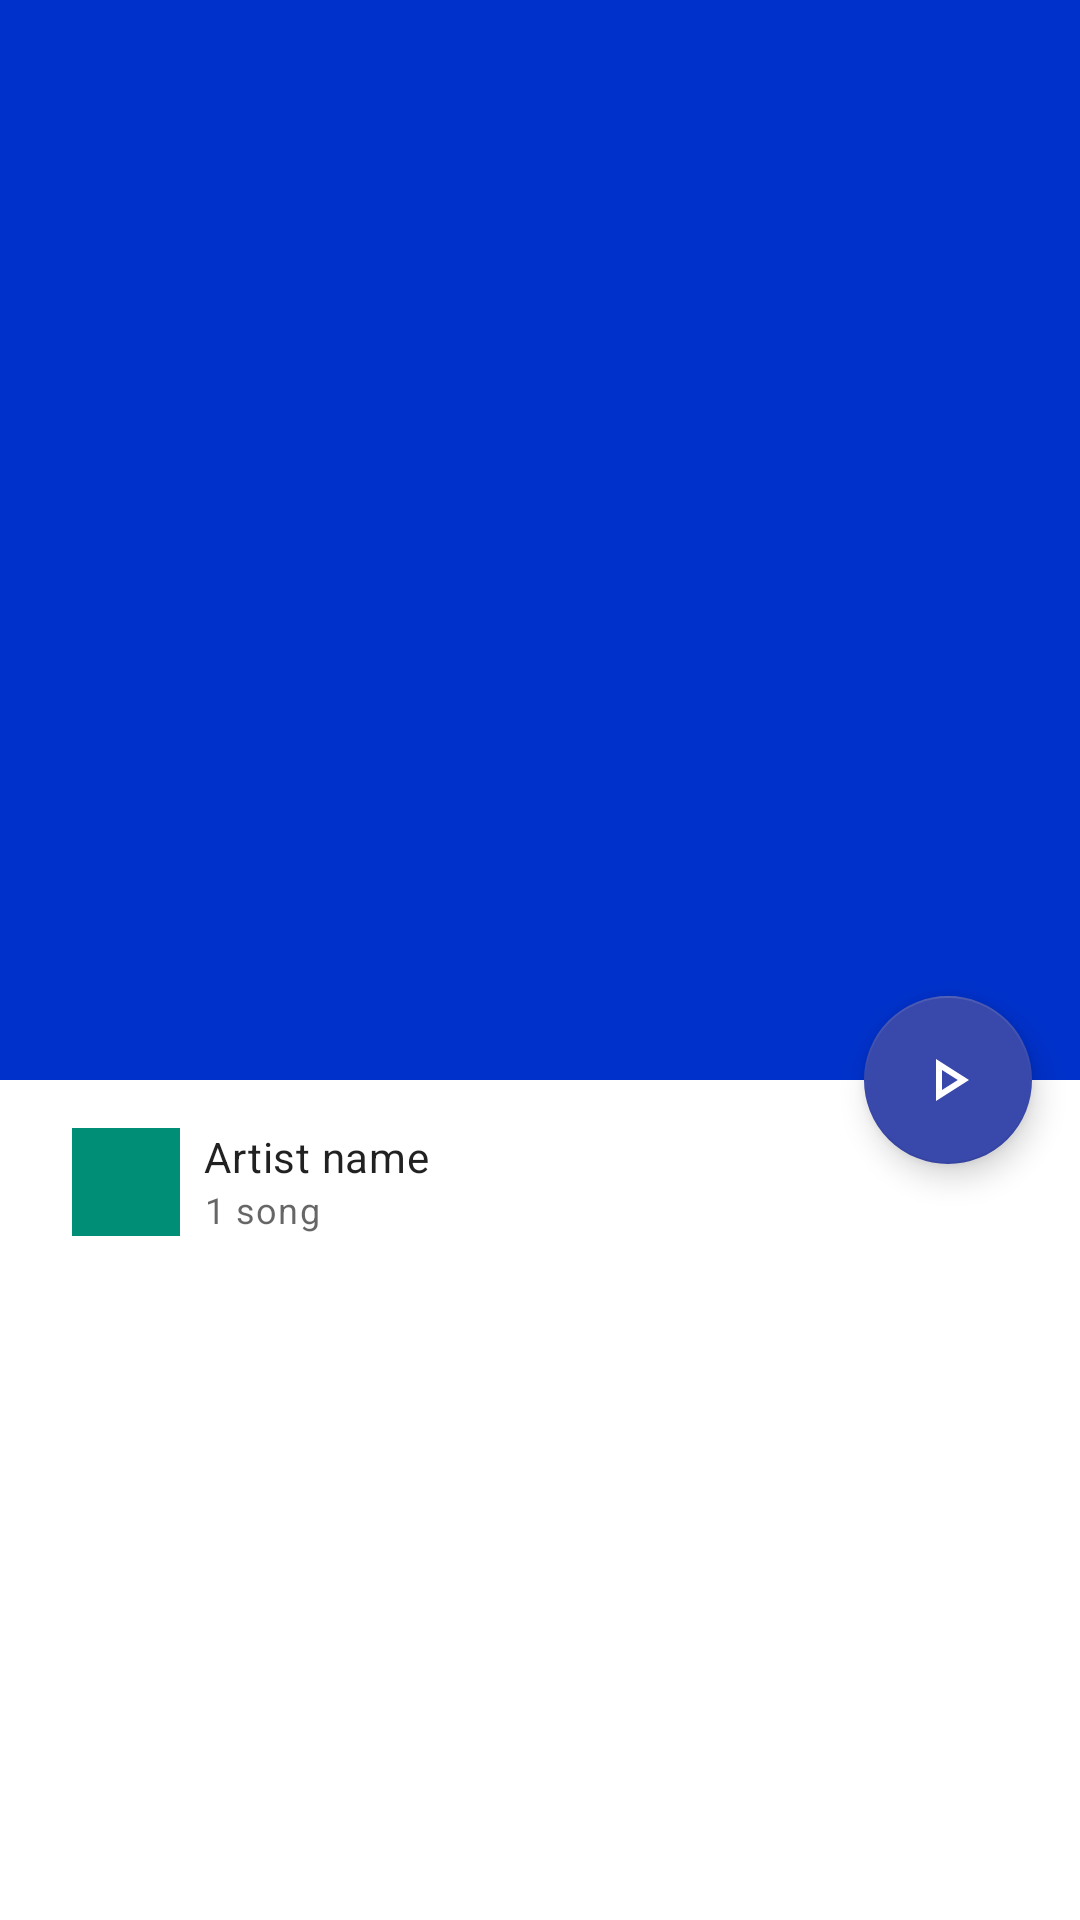

Screen size 1080px x 1920px. Icon name, then its center in pixels as [x,y]:
play arrow: [948,1080]
